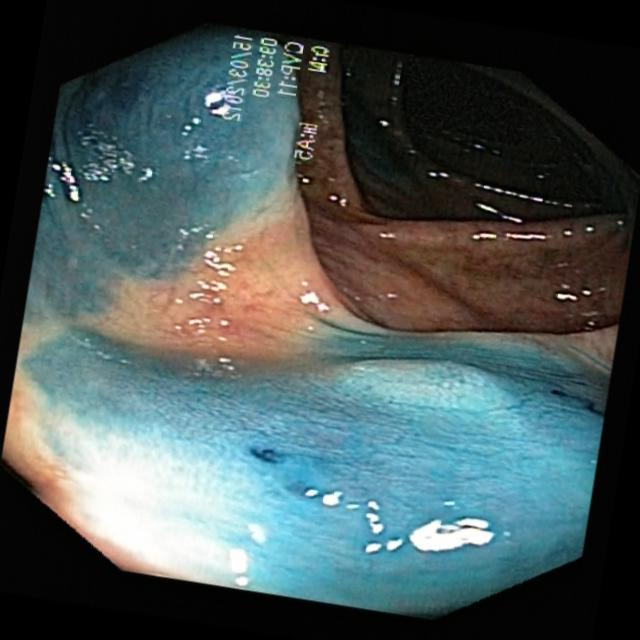dyed-lifted-polyps: (345, 343, 530, 410)
